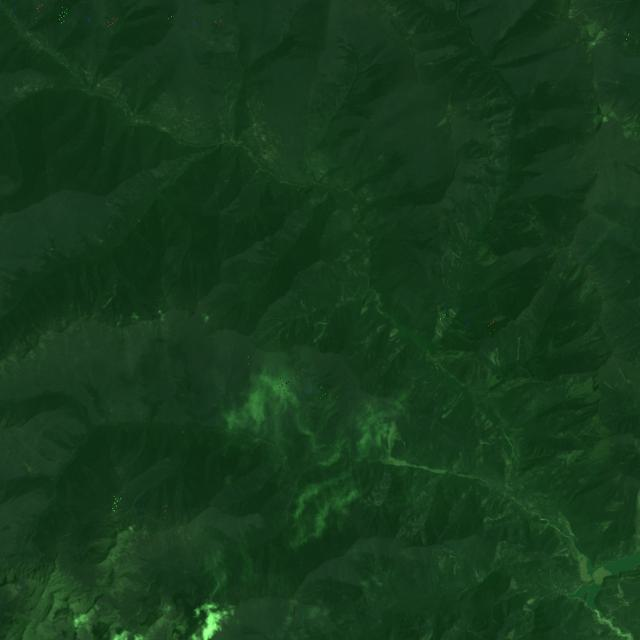landslides: (387, 419, 400, 469), (441, 391, 463, 419), (443, 390, 460, 410), (441, 351, 465, 365), (360, 294, 372, 314), (479, 314, 506, 322), (439, 312, 452, 326), (438, 555, 447, 574), (436, 319, 449, 330), (388, 333, 402, 342), (474, 569, 482, 584), (482, 419, 492, 431), (496, 550, 504, 563), (516, 337, 520, 362)
